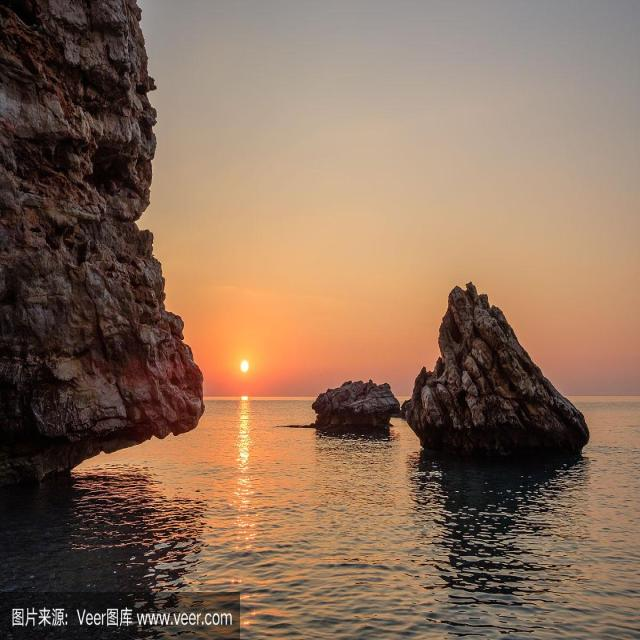reef: (305, 256, 587, 471)
